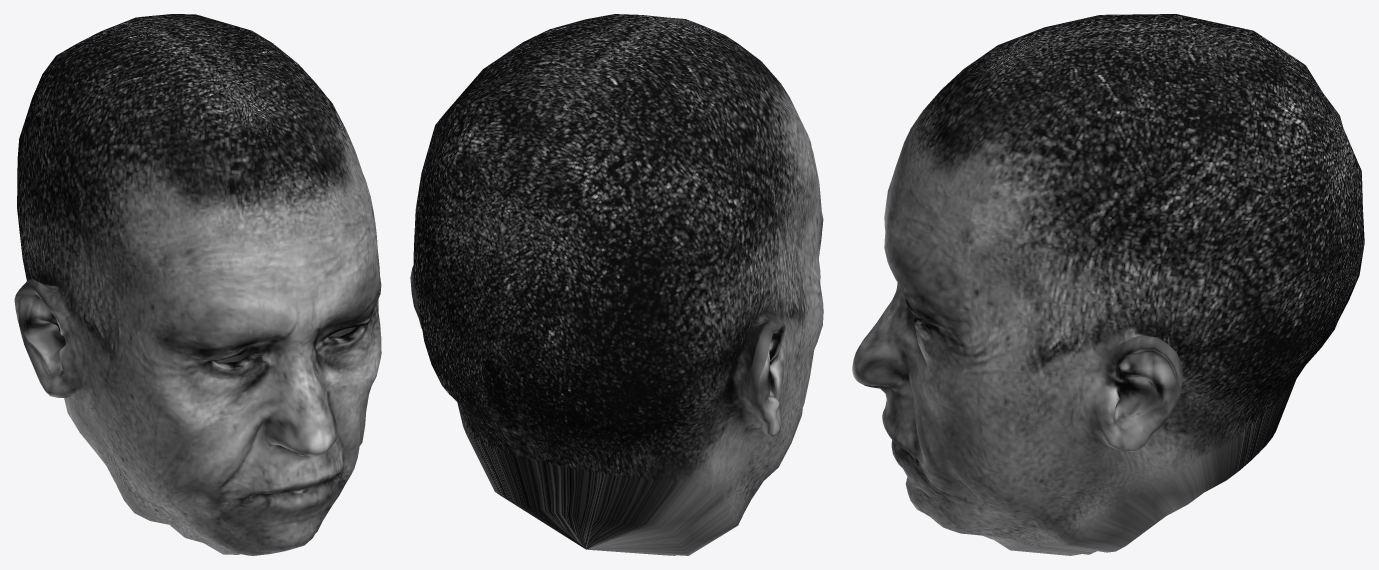
File: head.fbx
The picture shows the model from 3 angles, left to right: view 1: azimuth 30°, elevation 25°; view 2: azimuth 150°, elevation 25°; view 3: azimuth 270°, elevation 25°; orthographic projection. The views are drawn at different scales.
Parts seen in each view (by area): view 1: nakedmalebaseMesh; view 2: nakedmalebaseMesh; view 3: nakedmalebaseMesh.
Boxes of the visible parts, x1,y1,x2,y2 form: nakedmalebaseMesh: (14,14,381,555); nakedmalebaseMesh: (410,14,823,555); nakedmalebaseMesh: (852,14,1364,555).
Size of the model in its own units: 1884 by 2701 by 2439.
